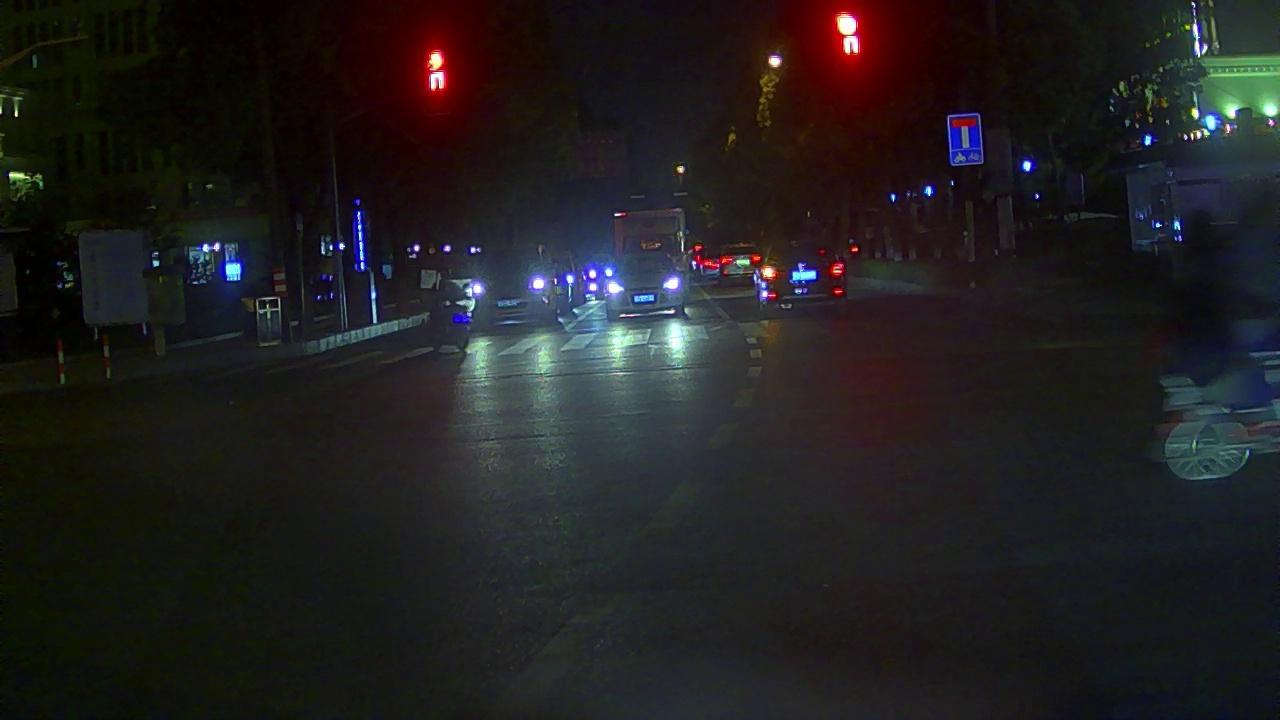traffic_light: (832, 3, 866, 60), (422, 47, 451, 96)
